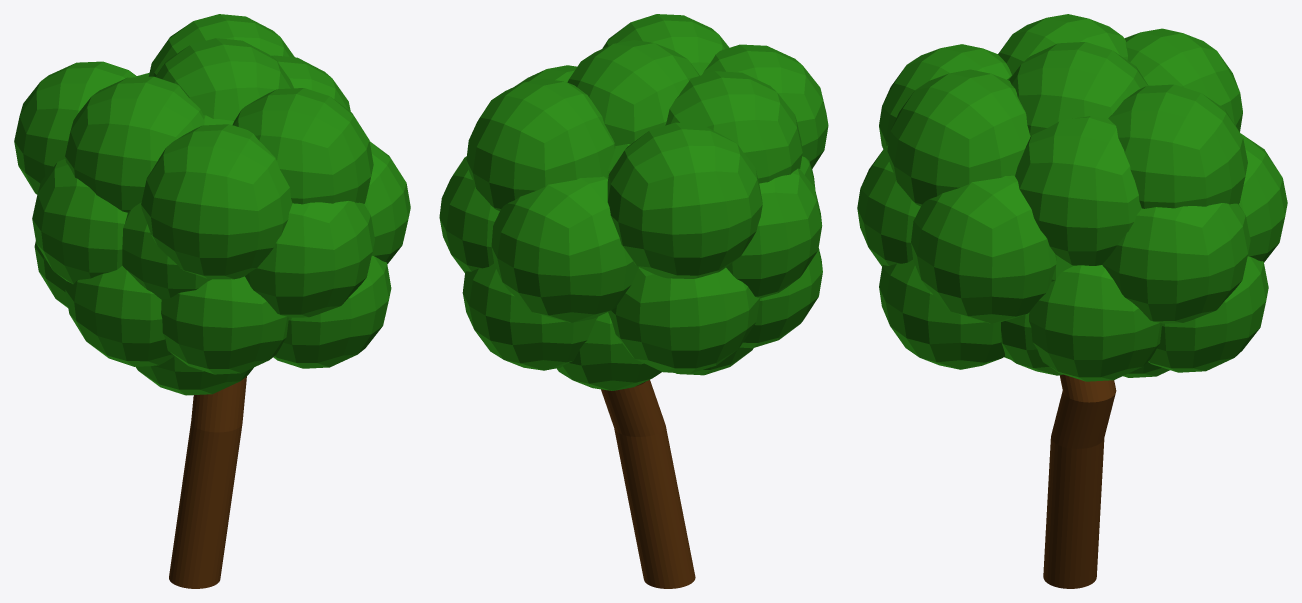
Rendered from arbol.glb.
3 renders of one model, left to right at view 1: azimuth 30°, elevation 25°; view 2: azimuth 150°, elevation 25°; view 3: azimuth 270°, elevation 25°, orthographic. The views are drawn at different scales.
Parts seen in each view (by area): view 1: Quadsphere.013, Quadsphere.005, Quadsphere.010, Quadsphere.011, Cylinder, Quadsphere.012, Quadsphere.004, Quadsphere.006, Quadsphere.020, Quadsphere.001, Quadsphere.009, Quadsphere.007 (+5 smaller); view 2: Quadsphere.001, Quadsphere.019, Quadsphere.017, Quadsphere.002, Cylinder, Quadsphere.005, Quadsphere.020, Quadsphere.004, Quadsphere.018, Quadsphere.013, Quadsphere.016, Quadsphere.023 (+4 smaller); view 3: Quadsphere.008, Quadsphere.010, Quadsphere.014, Quadsphere.016, Quadsphere.017, Cylinder, Quadsphere.015, Quadsphere.020, Quadsphere.009, Quadsphere.018, Quadsphere.001, Quadsphere.011 (+4 smaller).
Boxes of the visible parts, box(x1,y1,x2,y2) form: Quadsphere.013: box(141, 124, 292, 279); Quadsphere.005: box(65, 76, 204, 212); Quadsphere.010: box(232, 88, 373, 204); Quadsphere.011: box(245, 201, 374, 317); Cylinder: box(169, 376, 246, 588); Quadsphere.012: box(161, 276, 288, 374); Quadsphere.004: box(32, 159, 127, 284); Quadsphere.006: box(65, 266, 174, 366); Quadsphere.020: box(155, 38, 293, 120); Quadsphere.001: box(14, 61, 137, 194); Quadsphere.009: box(273, 256, 391, 368); Quadsphere.007: box(122, 202, 211, 299); Quadsphere.001: box(607, 122, 762, 278); Quadsphere.019: box(491, 176, 638, 322); Quadsphere.017: box(466, 78, 615, 210); Quadsphere.002: box(608, 267, 760, 373); Cylinder: box(601, 380, 695, 588); Quadsphere.005: box(665, 71, 802, 183); Quadsphere.020: box(567, 40, 699, 145); Quadsphere.004: box(726, 168, 822, 298); Quadsphere.018: box(462, 263, 597, 370); Quadsphere.013: box(702, 44, 828, 168); Quadsphere.016: box(439, 156, 499, 272); Quadsphere.023: box(556, 312, 661, 390); Quadsphere.008: box(911, 175, 1056, 323); Quadsphere.010: box(887, 69, 1030, 206); Quadsphere.014: box(1015, 116, 1141, 265); Quadsphere.016: box(1102, 203, 1250, 323); Quadsphere.017: box(1108, 84, 1247, 208); Cylinder: box(1043, 374, 1116, 588); Quadsphere.015: box(1029, 265, 1162, 381); Quadsphere.020: box(1009, 42, 1148, 135); Quadsphere.009: box(879, 260, 1004, 369); Quadsphere.018: box(1148, 256, 1268, 372); Quadsphere.001: box(1124, 28, 1242, 131); Quadsphere.011: box(857, 145, 920, 266).
Size of the model in its own units: 2 by 3.16 by 2.26.
